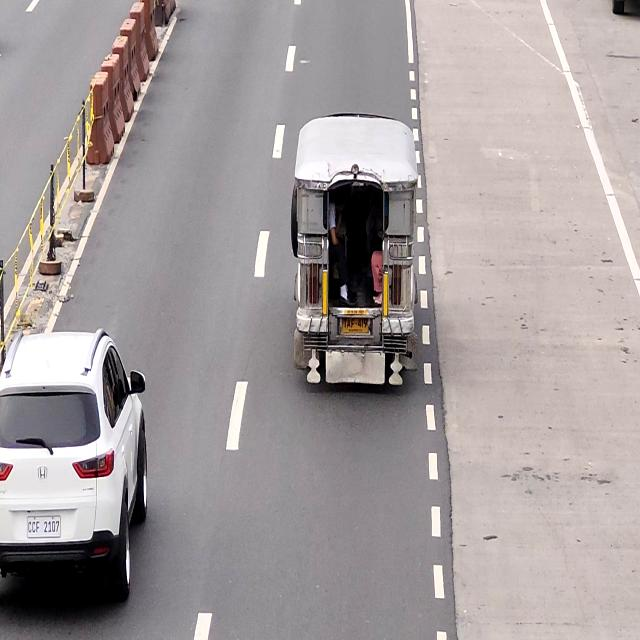Car: (0, 336, 146, 603)
Jeep: (296, 118, 416, 388)
License-Plate: (26, 516, 61, 538), (341, 312, 370, 334)
